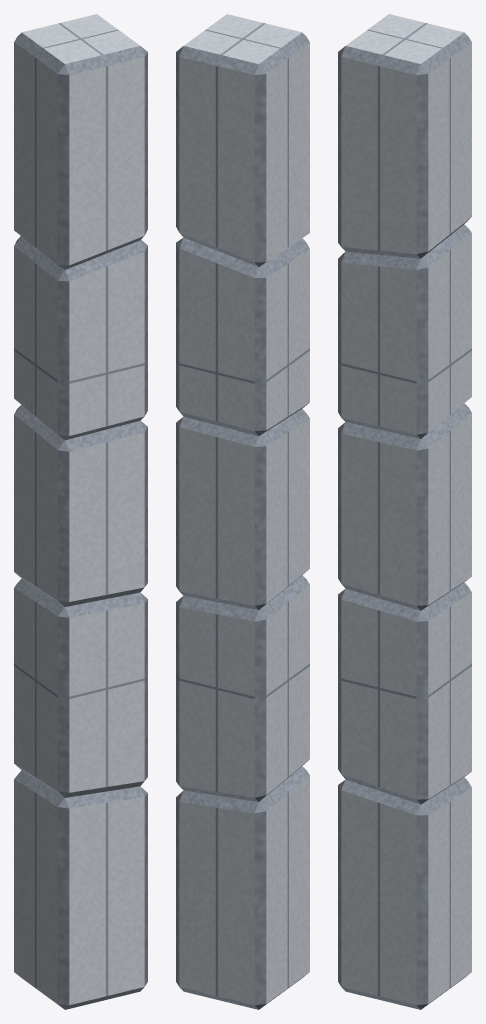
Rendered from Kit_Steel_Joint_Fractured.glb.
3 views of the same model, side by side, from view 1: azimuth 30°, elevation 25°; view 2: azimuth 150°, elevation 25°; view 3: azimuth 330°, elevation 25° (orthographic).
Parts seen in each view (by area): view 1: Kit_Steel_Joint_frag_05, Kit_Steel_Joint_frag_01, Kit_Steel_Joint_frag_02, Kit_Steel_Joint_frag_04, Kit_Steel_Joint_frag_03; view 2: Kit_Steel_Joint_frag_05, Kit_Steel_Joint_frag_01, Kit_Steel_Joint_frag_02, Kit_Steel_Joint_frag_03, Kit_Steel_Joint_frag_04; view 3: Kit_Steel_Joint_frag_05, Kit_Steel_Joint_frag_01, Kit_Steel_Joint_frag_02, Kit_Steel_Joint_frag_04, Kit_Steel_Joint_frag_03.
Part boxes in pixels (x1,y1,x2,y2): Kit_Steel_Joint_frag_05: (14,14,147,269); Kit_Steel_Joint_frag_01: (14,770,147,1009); Kit_Steel_Joint_frag_02: (14,578,147,797); Kit_Steel_Joint_frag_04: (14,236,147,440); Kit_Steel_Joint_frag_03: (14,405,147,606); Kit_Steel_Joint_frag_05: (176,14,309,266); Kit_Steel_Joint_frag_01: (176,766,309,1009); Kit_Steel_Joint_frag_02: (176,575,309,801); Kit_Steel_Joint_frag_03: (176,408,309,610); Kit_Steel_Joint_frag_04: (176,237,309,436); Kit_Steel_Joint_frag_05: (338,14,471,258); Kit_Steel_Joint_frag_01: (338,777,471,1009); Kit_Steel_Joint_frag_02: (338,582,471,804); Kit_Steel_Joint_frag_04: (338,224,471,438); Kit_Steel_Joint_frag_03: (338,403,471,610).
Size of what is drawn, in the model's own units: 0.3 by 3 by 0.3.
Materials: 2 (2 with a texture image).
